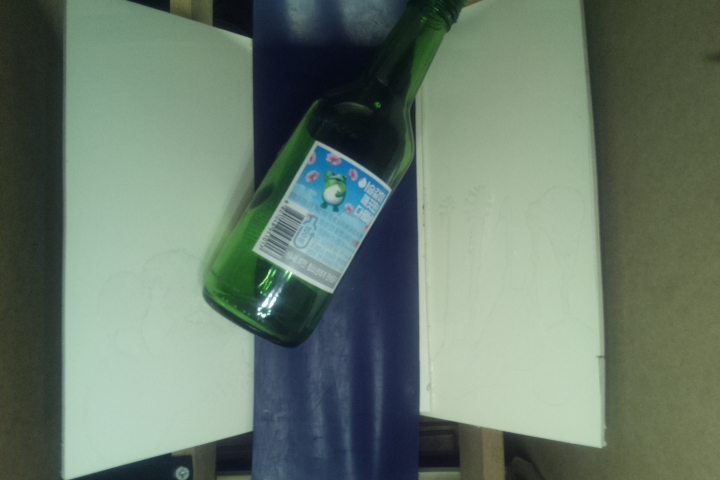soju: (202, 1, 463, 347)
